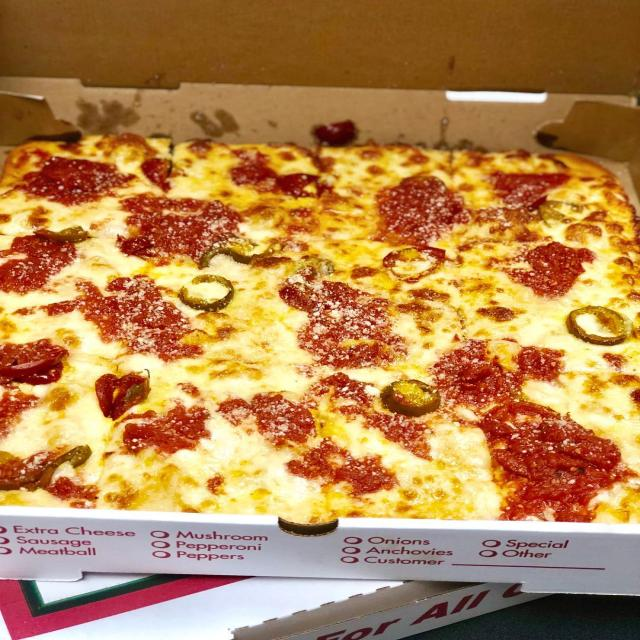green_olives: (561, 302, 633, 349), (381, 373, 443, 420), (42, 437, 94, 484), (178, 272, 236, 311), (195, 236, 246, 272), (40, 219, 90, 247)
pizza: (0, 130, 640, 528)
